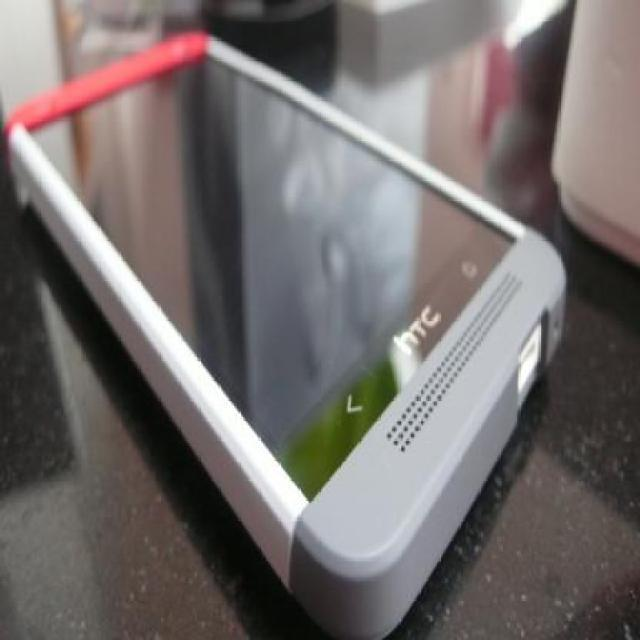phone: (6, 29, 566, 640)
